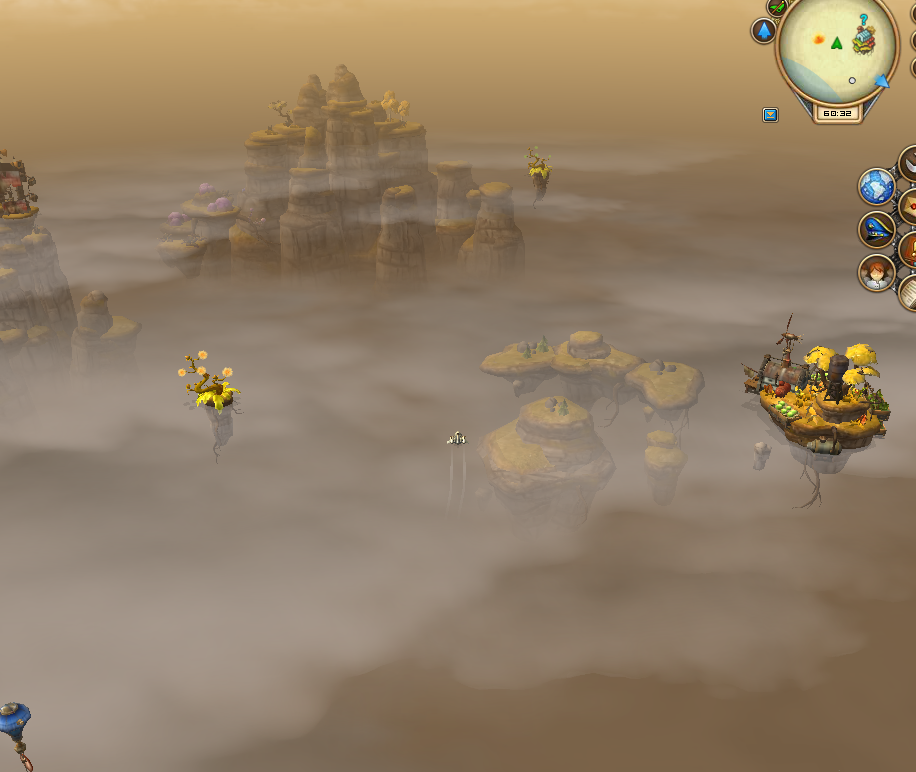dandelion-full: (173, 344, 243, 456), (519, 137, 556, 203)
